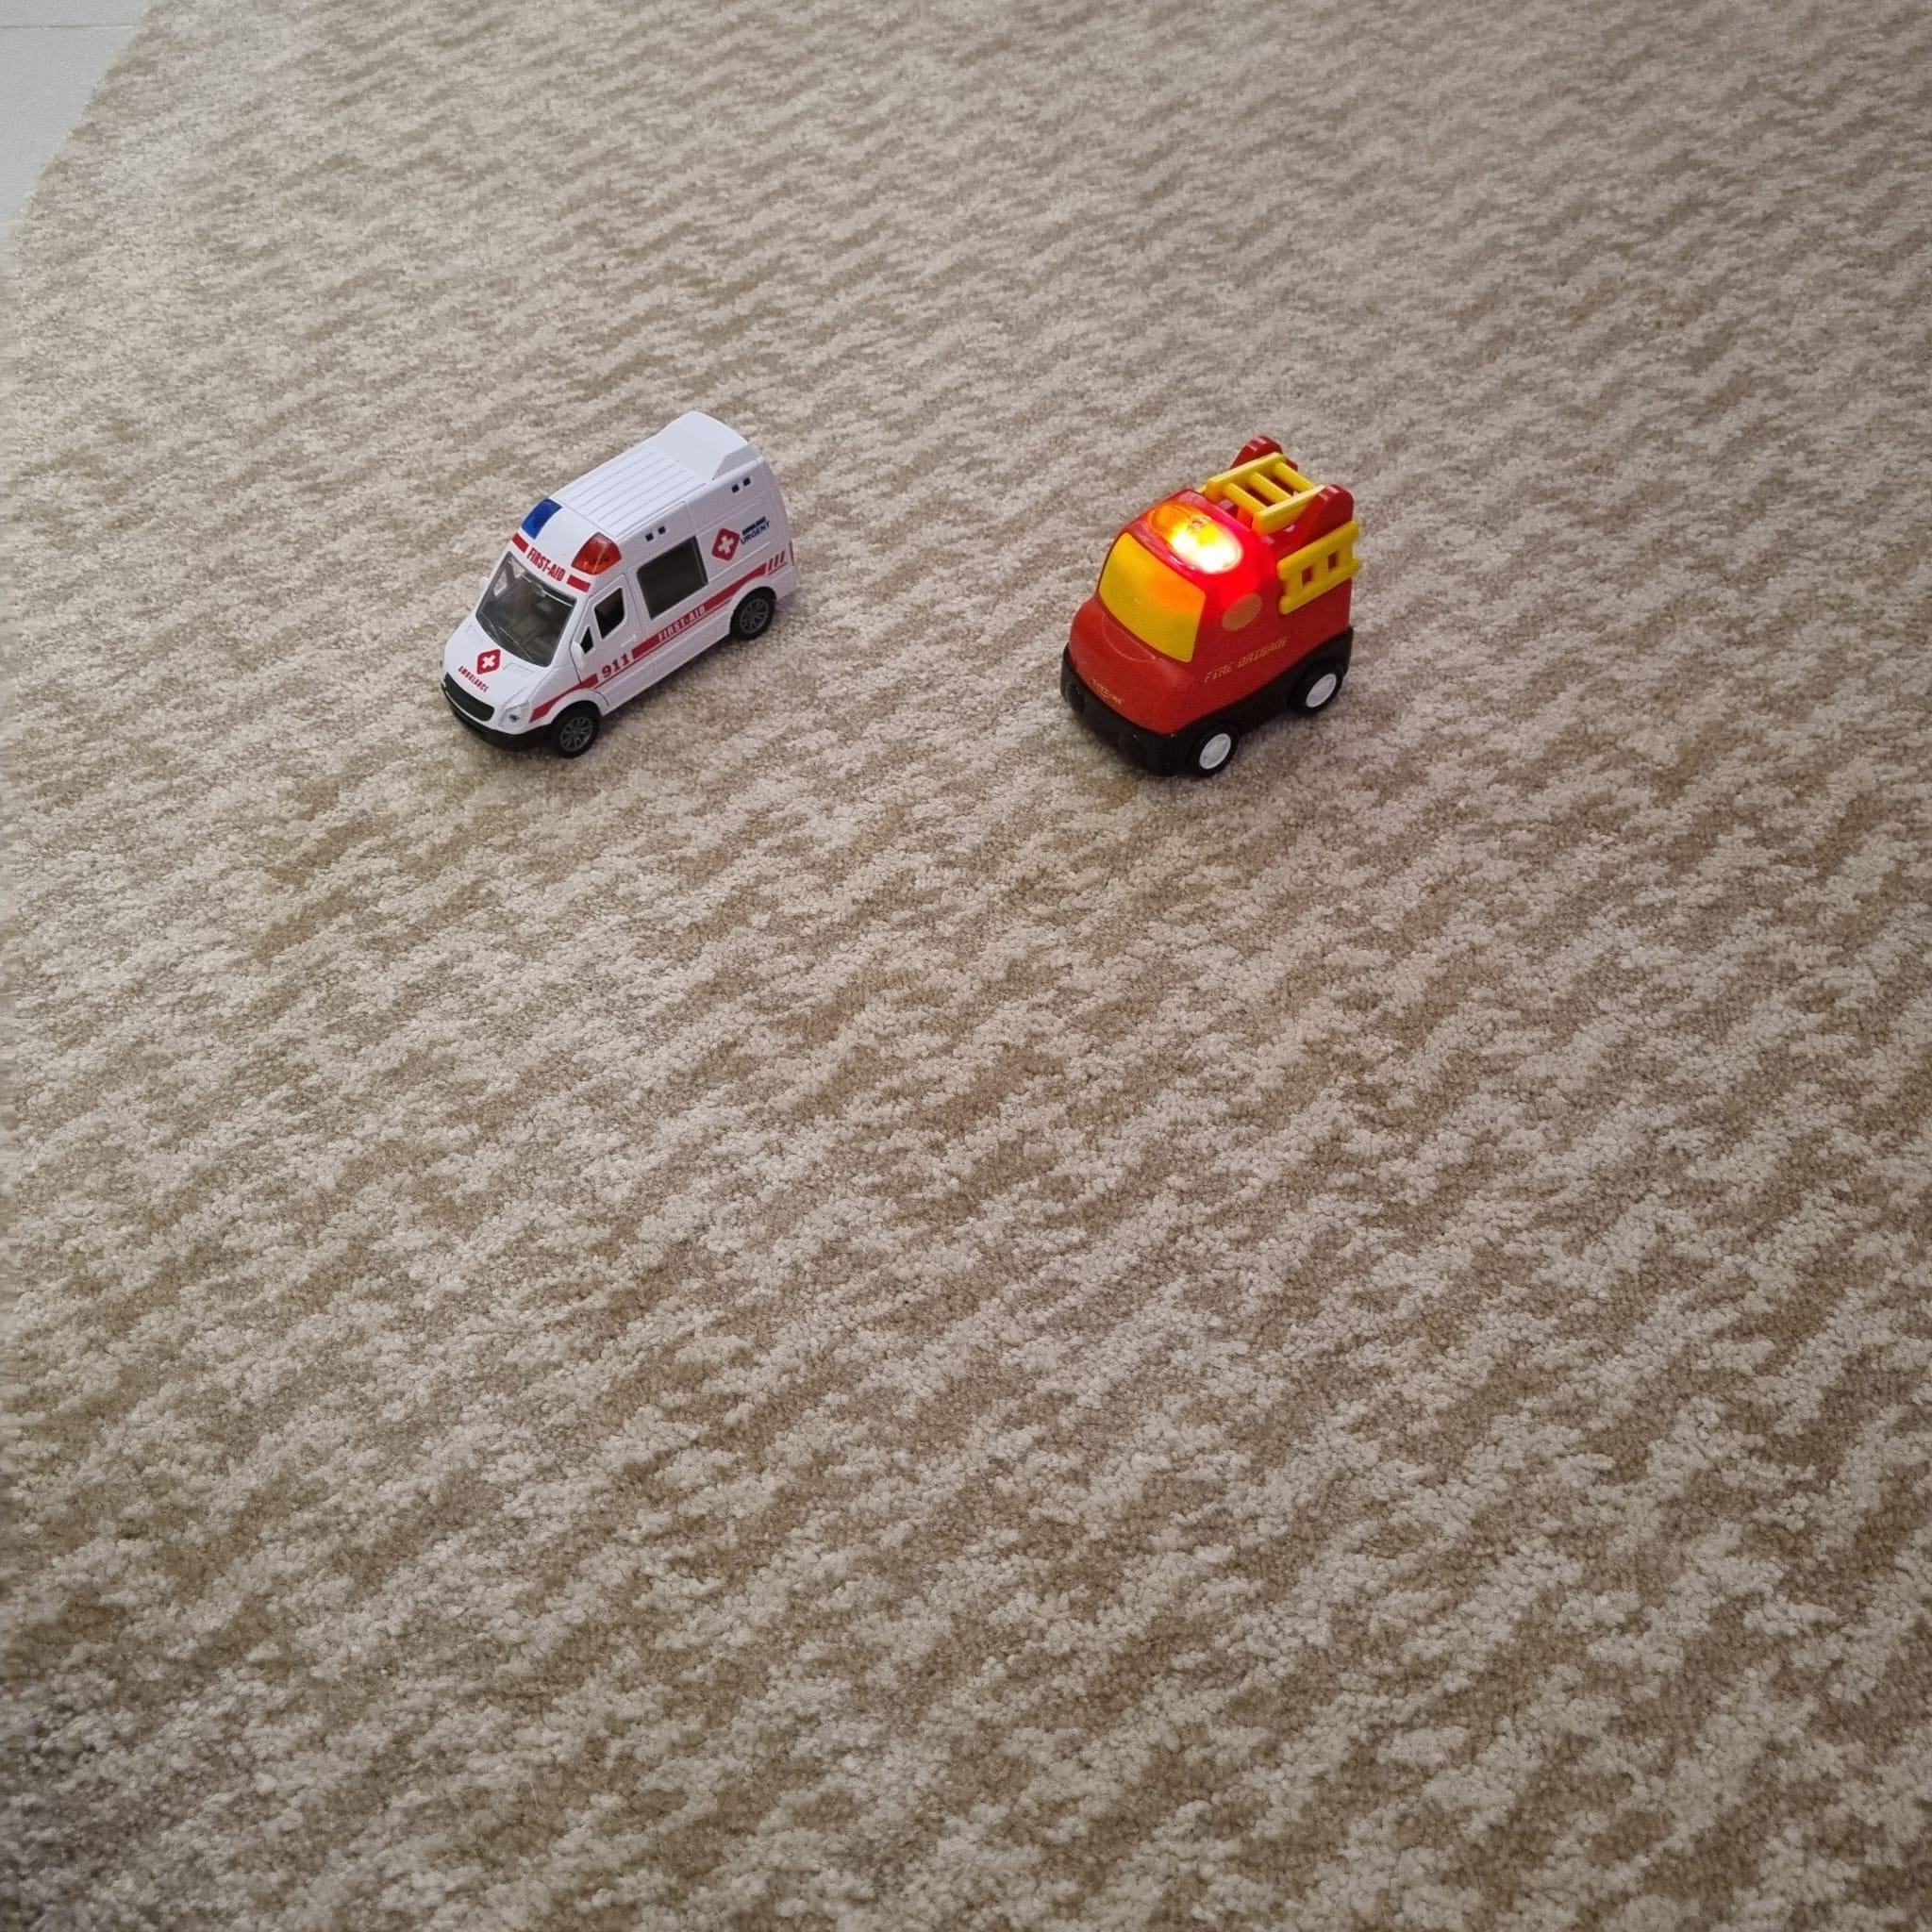ambulance_off: (439, 412, 798, 759)
firetruck_on: (1062, 435, 1357, 778)
